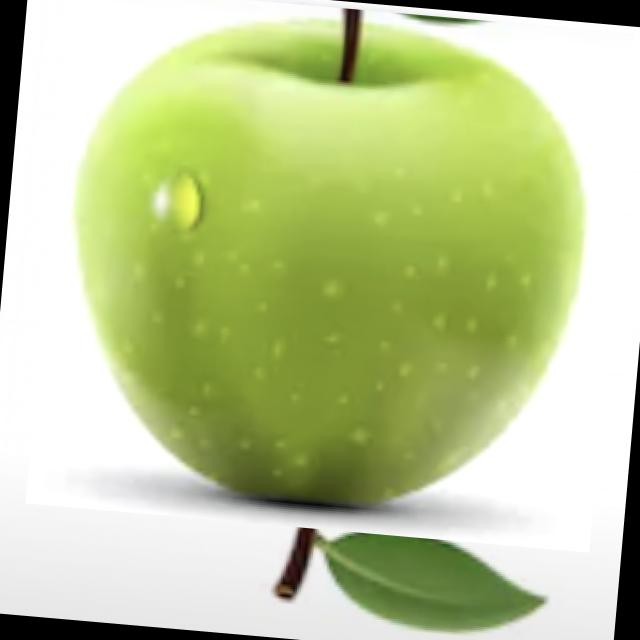Fresh Apple: (24, 0, 635, 553)
